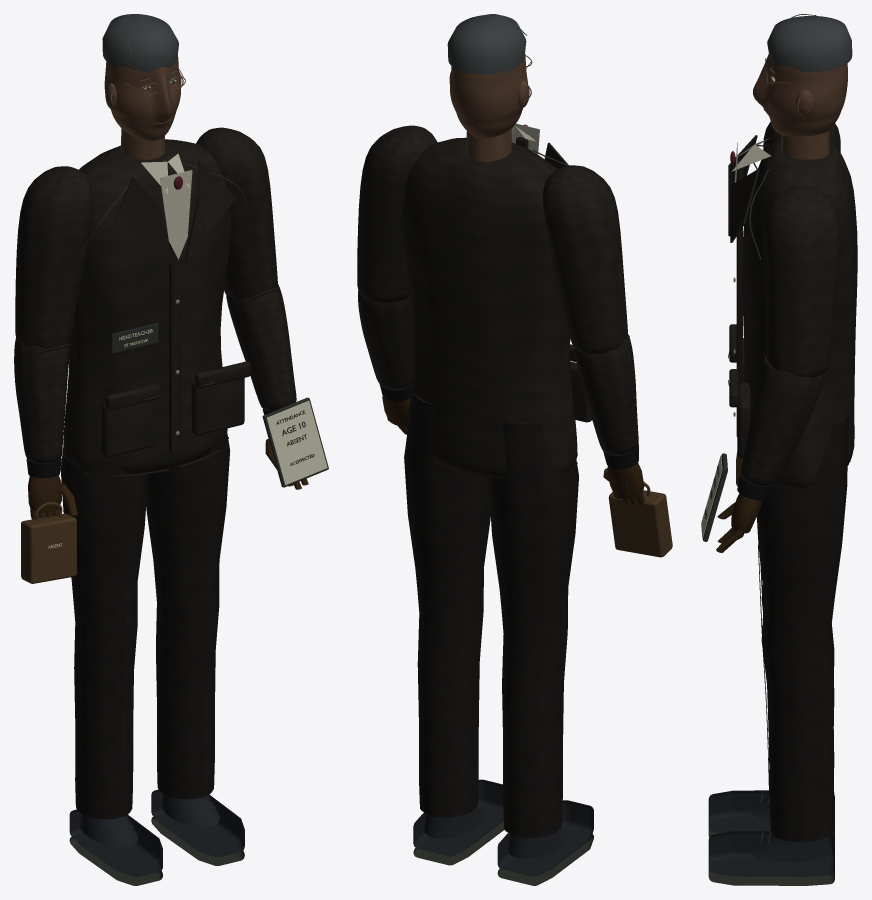
Rendered from headteacher.glb.
3 views of the same model, side by side, from view 1: azimuth 30°, elevation 25°; view 2: azimuth 150°, elevation 25°; view 3: azimuth 270°, elevation 25° (orthographic). The views are drawn at different scales.
Visible parts, largest first — view 1: Idle breathing chest / Charcoal brown school tweed, headteacher / Pressed school trousers, Left shoulder idle / Charcoal brown school tweed, headteacher / Polished black shoe leather, Right shoulder idle / Charcoal brown school tweed, Left forearm idle / Charcoal brown school tweed, Right forearm idle / Charcoal brown school tweed, Head watchful idle / Weathered skin, Maintenance keyring idle / Brown field leather, Head watchful idle / Iron gray side parted hair, Right forearm idle / Inspection label paper, Idle breathing chest / Aged cream shirt (+5 smaller); view 2: headteacher / Pressed school trousers, Idle breathing chest / Charcoal brown school tweed, Left shoulder idle / Charcoal brown school tweed, Right shoulder idle / Charcoal brown school tweed, headteacher / Polished black shoe leather, Left forearm idle / Charcoal brown school tweed, Head watchful idle / Weathered skin, Right forearm idle / Charcoal brown school tweed, Head watchful idle / Iron gray side parted hair, Maintenance keyring idle / Brown field leather, headteacher / Dark seams, Left forearm idle / Work glove leather (+2 smaller); view 3: headteacher / Pressed school trousers, Idle breathing chest / Charcoal brown school tweed, Right shoulder idle / Charcoal brown school tweed, headteacher / Polished black shoe leather, Right forearm idle / Charcoal brown school tweed, Head watchful idle / Weathered skin, Head watchful idle / Iron gray side parted hair, headteacher / Dark seams, Right forearm idle / Work glove leather, Idle breathing chest / Weathered skin, Right forearm idle / Dark seams, Right forearm idle / Charcoal ribbed wool (+3 smaller).
Part boxes in pixels (left/top/right/bottom): Idle breathing chest / Charcoal brown school tweed: left=63, top=139, right=250, bottom=477; headteacher / Pressed school trousers: left=60, top=433, right=230, bottom=819; Left shoulder idle / Charcoal brown school tweed: left=15, top=166, right=93, bottom=348; headteacher / Polished black shoe leather: left=69, top=789, right=244, bottom=876; Right shoulder idle / Charcoal brown school tweed: left=196, top=127, right=277, bottom=299; Left forearm idle / Charcoal brown school tweed: left=14, top=338, right=70, bottom=462; Right forearm idle / Charcoal brown school tweed: left=226, top=284, right=296, bottom=410; Head watchful idle / Weathered skin: left=104, top=55, right=181, bottom=141; Maintenance keyring idle / Brown field leather: left=21, top=502, right=76, bottom=583; Head watchful idle / Iron gray side parted hair: left=102, top=14, right=178, bottom=72; Right forearm idle / Inspection label paper: left=266, top=400, right=327, bottom=485; Idle breathing chest / Aged cream shirt: left=141, top=153, right=192, bottom=259; headteacher / Pressed school trousers: left=404, top=392, right=578, bottom=838; Idle breathing chest / Charcoal brown school tweed: left=402, top=137, right=592, bottom=479; Left shoulder idle / Charcoal brown school tweed: left=543, top=165, right=627, bottom=354; Right shoulder idle / Charcoal brown school tweed: left=357, top=125, right=437, bottom=303; headteacher / Polished black shoe leather: left=413, top=779, right=593, bottom=876; Left forearm idle / Charcoal brown school tweed: left=574, top=334, right=638, bottom=455; Head watchful idle / Weathered skin: left=449, top=53, right=529, bottom=138; Right forearm idle / Charcoal brown school tweed: left=358, top=291, right=413, bottom=389; Head watchful idle / Iron gray side parted hair: left=447, top=14, right=526, bottom=74; Maintenance keyring idle / Brown field leather: left=608, top=481, right=672, bottom=557; headteacher / Dark seams: left=413, top=799, right=593, bottom=885; Left forearm idle / Work glove leather: left=603, top=463, right=644, bottom=505; headteacher / Pressed school trousers: left=756, top=411, right=848, bottom=842; Idle breathing chest / Charcoal brown school tweed: left=728, top=135, right=857, bottom=489; Right shoulder idle / Charcoal brown school tweed: left=763, top=186, right=840, bottom=377; headteacher / Polished black shoe leather: left=708, top=790, right=834, bottom=876; Right forearm idle / Charcoal brown school tweed: left=740, top=356, right=824, bottom=485; Head watchful idle / Weathered skin: left=753, top=54, right=847, bottom=136; Head watchful idle / Iron gray side parted hair: left=767, top=16, right=852, bottom=71; headteacher / Dark seams: left=708, top=791, right=834, bottom=885; Right forearm idle / Work glove leather: left=716, top=493, right=762, bottom=552; Idle breathing chest / Weathered skin: left=781, top=130, right=829, bottom=159; Right forearm idle / Dark seams: left=702, top=453, right=727, bottom=541; Right forearm idle / Charcoal ribbed wool: left=737, top=473, right=773, bottom=500.
Size of the model in its own units: 0.6428 by 1.78 by 0.3027.
Materials: 20 (5 with a texture image).
